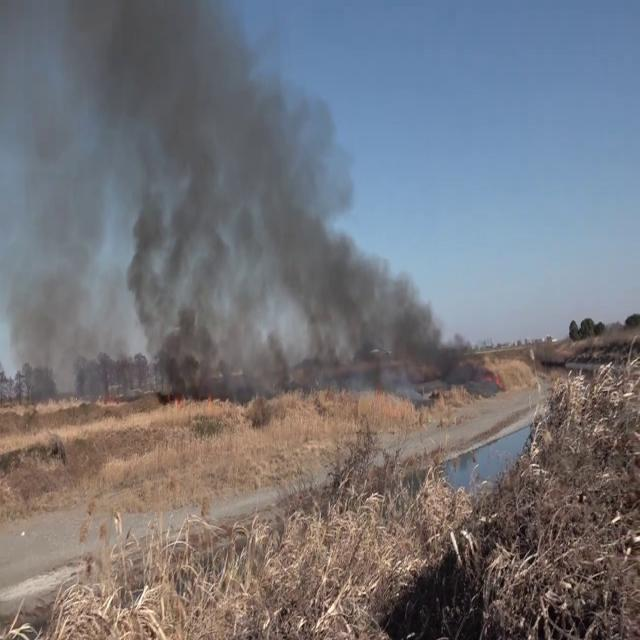Smoke: (2, 0, 470, 388)
